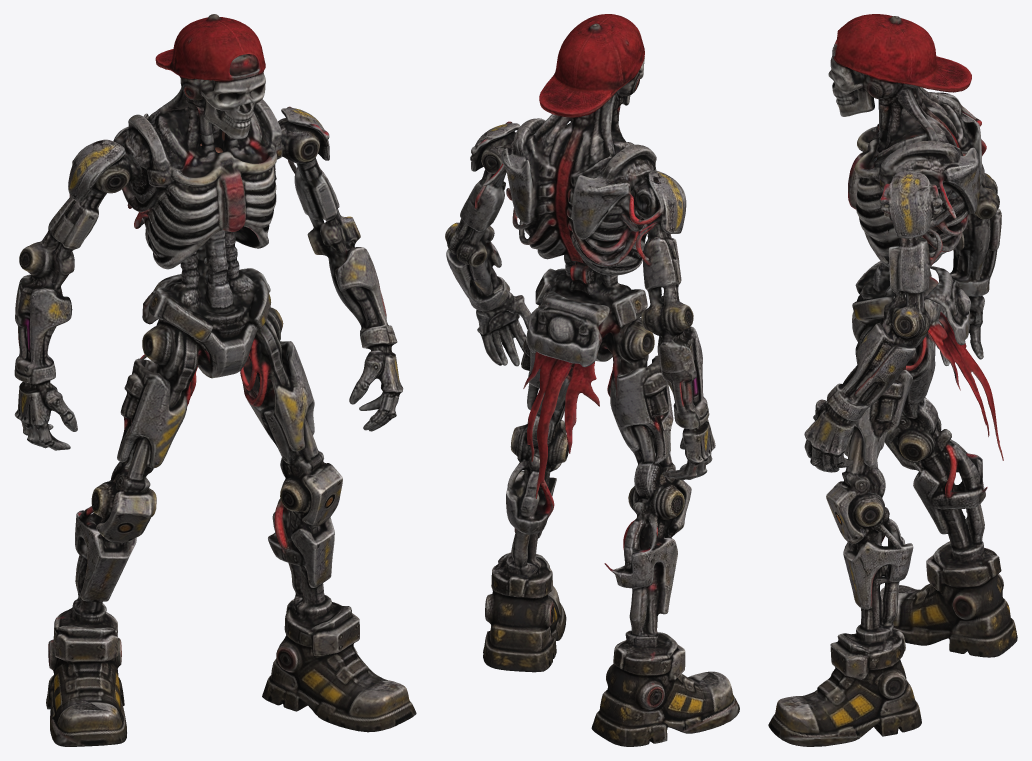
File: skeleton_textured.glb
3 renders of one model, left to right at view 1: azimuth 30°, elevation 25°; view 2: azimuth 150°, elevation 25°; view 3: azimuth 270°, elevation 25°, orthographic. The views are drawn at different scales.
Size of the model in its own units: 0.89 by 1.9 by 0.6455.
Materials: 1 (1 with a texture image).
